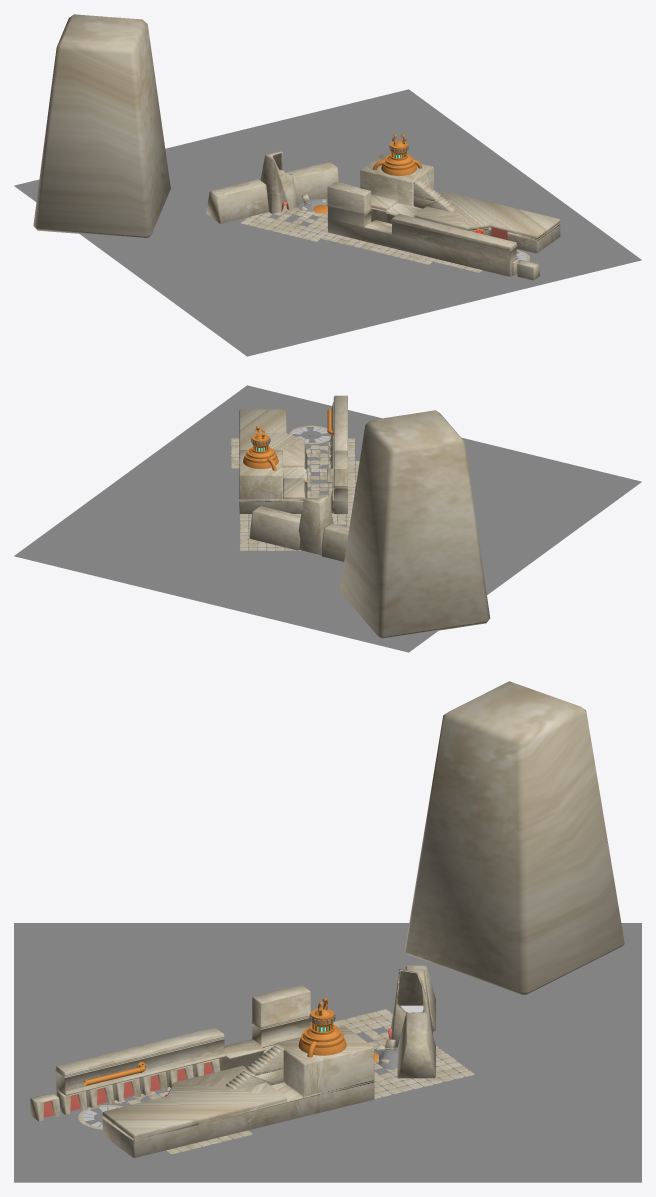
The model's file is Concept_2_firstperson_blockout THE SEQUEL.fbx.
3 renders of one model, top to bottom at view 1: azimuth 30°, elevation 25°; view 2: azimuth 150°, elevation 25°; view 3: azimuth 270°, elevation 25°, orthographic. The views are drawn at different scales.
Visible parts, largest first — view 1: Cube, Cube.009, Cube.006, Cube.007, Cube.008, Cube.001, Cube.003; view 2: Cube, Cube.009, Cube.007, Cube.006, Cube.003, Cube.001, Cube.008, Sphere.003; view 3: Cube, Cube.009, Cube.007, Cube.006, Cube.013, Cube.003, Cube.001, Cube.012, Cube.010, Sphere.003.
Part boxes in pixels (left/top/right/bottom): Cube: left=14, top=89, right=641, bottom=356; Cube.009: left=33, top=14, right=170, bottom=237; Cube.006: left=327, top=182, right=517, bottom=276; Cube.007: left=360, top=154, right=560, bottom=253; Cube.008: left=206, top=179, right=268, bottom=223; Cube.001: left=260, top=151, right=298, bottom=213; Cube.003: left=285, top=162, right=339, bottom=203; Cube: left=14, top=385, right=641, bottom=652; Cube.009: left=339, top=410, right=490, bottom=638; Cube.007: left=239, top=409, right=307, bottom=514; Cube.006: left=327, top=395, right=347, bottom=514; Cube.003: left=249, top=506, right=300, bottom=550; Cube.001: left=298, top=496, right=333, bottom=554; Cube.008: left=320, top=523, right=349, bottom=561; Sphere.003: left=243, top=448, right=278, bottom=468; Cube: left=14, top=923, right=641, bottom=1182; Cube.009: left=405, top=681, right=624, bottom=994; Cube.007: left=102, top=1026, right=374, bottom=1157; Cube.006: left=55, top=985, right=310, bottom=1106; Cube.013: left=30, top=1058, right=220, bottom=1121; Cube.003: left=397, top=1012, right=435, bottom=1078; Cube.001: left=391, top=969, right=432, bottom=1047; Cube.012: left=225, top=1068, right=283, bottom=1090; Cube.010: left=246, top=1044, right=284, bottom=1075; Sphere.003: left=298, top=1028, right=346, bottom=1055.
Size of the model in its own units: 7175 by 3027 by 6828.
